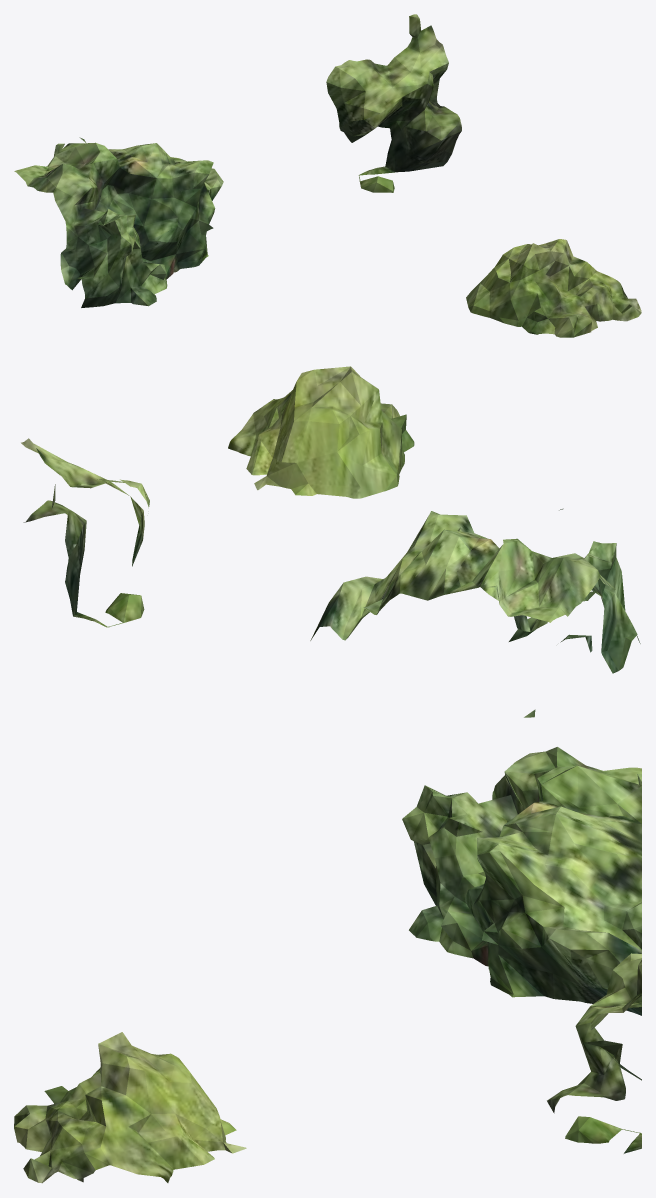
3 renders of one model, top to bottom at view 1: azimuth 30°, elevation 25°; view 2: azimuth 150°, elevation 25°; view 3: azimuth 270°, elevation 25°, orthographic. The views are drawn at different scales.
Size of the model in its own units: 26.11 by 8.8 by 23.88.
2 materials, 2 textured.
